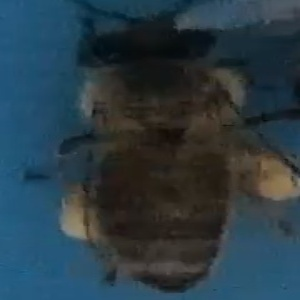bee: (50, 5, 300, 289)
